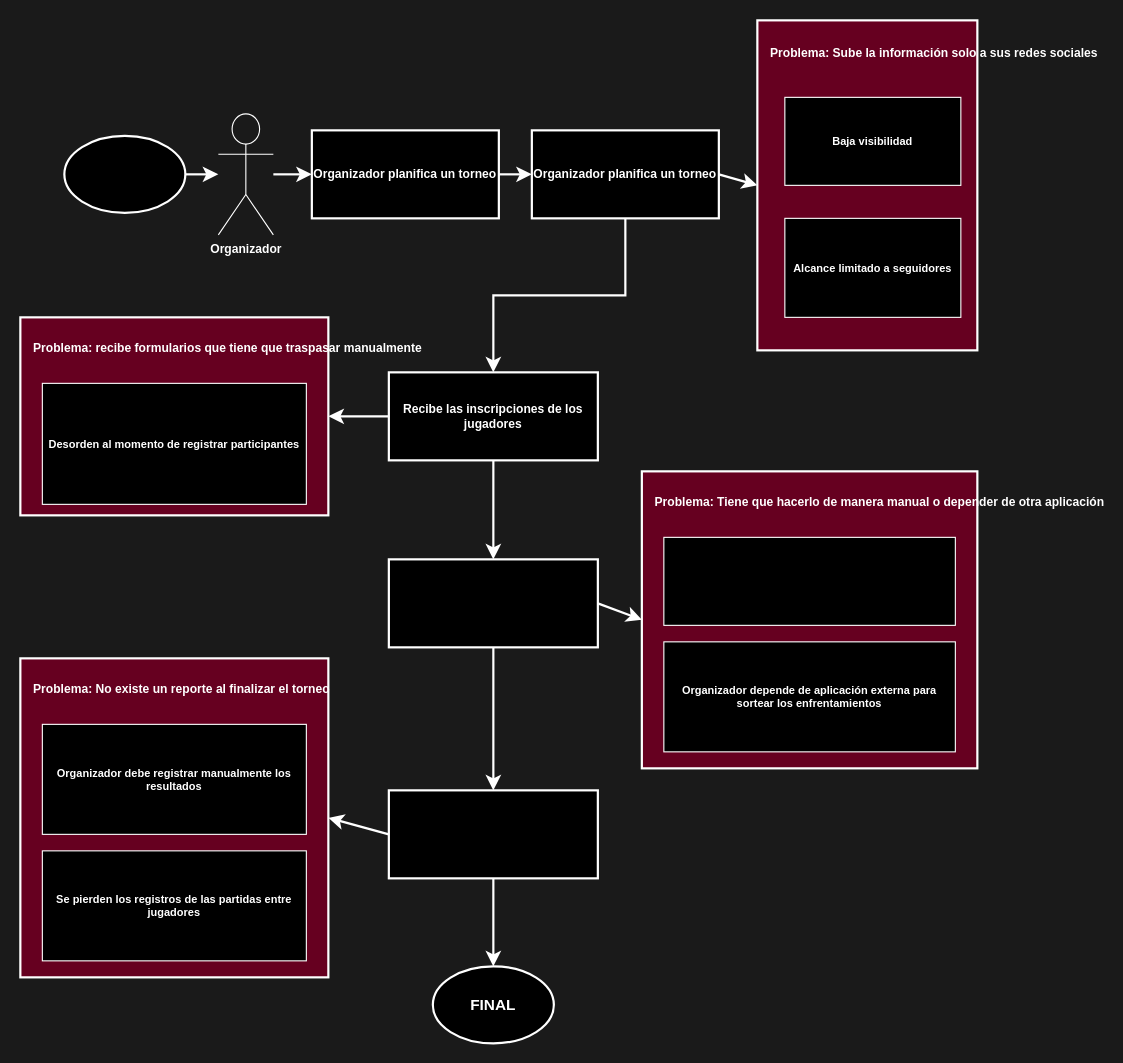
Some shapes in this 1123 by 1063 pixel diagram are drawn without their labels. The box of each missing label's shape, as (x1, y1, x2, y2) in pixels:
INICIO: (63, 134, 186, 213)
Organiza enfrentamientos: (387, 558, 598, 648)
Organizador da por finalizado el torneo: (387, 789, 598, 879)
Organizador registra los enfrentamientos manualmente: (663, 536, 955, 625)
